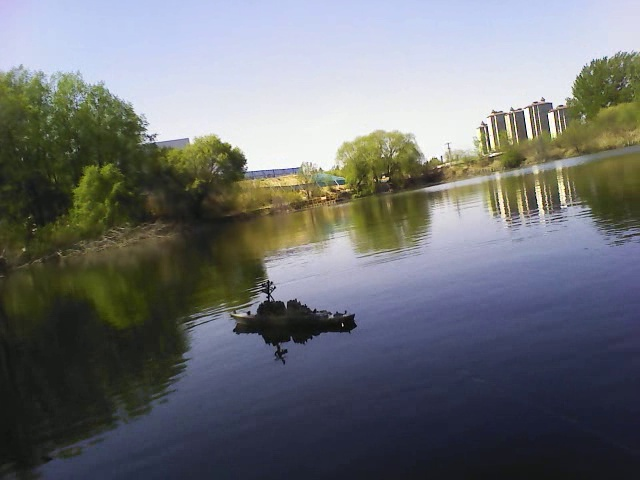warship: (230, 275, 359, 338)
